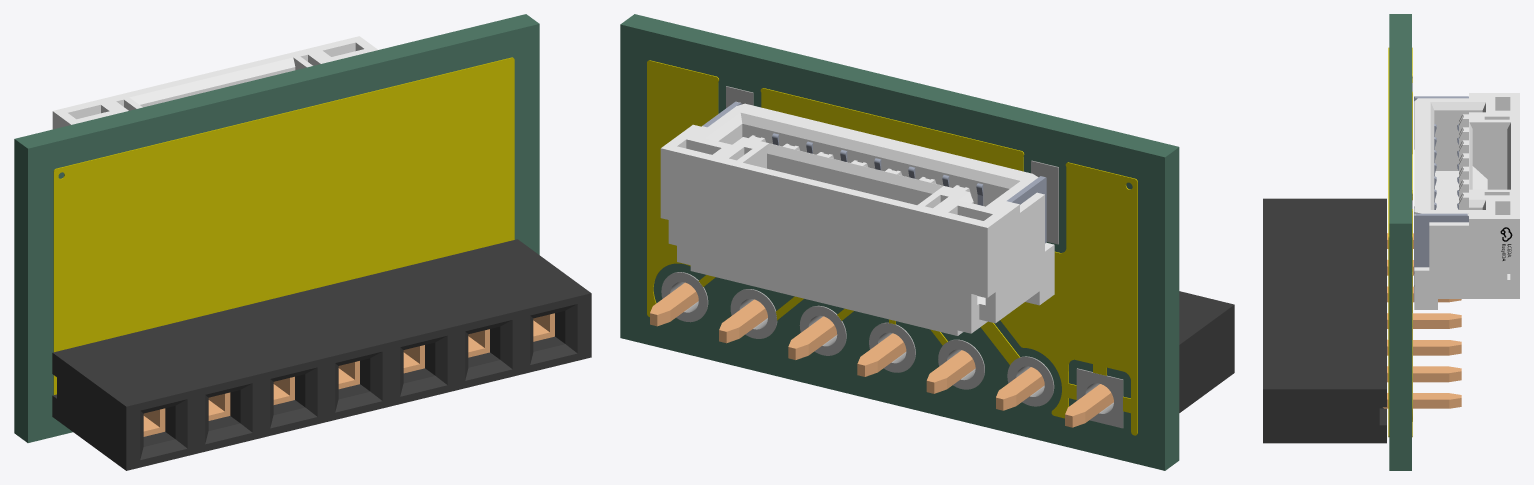
File: pet-screen-adapter.glb
3 renders of one model, left to right at view 1: azimuth 30°, elevation 25°; view 2: azimuth 150°, elevation 25°; view 3: azimuth 270°, elevation 25°, orthographic. The views are drawn at different scales.
Parts seen in each view (by area): view 1: o1.3, o1.1.1, o1.6, o1.2.1; view 2: o1.6, o1.2.1, o1.3, o1.1.1, o1.4; view 3: o1.1.1, o1.2.1, o1.6, o1.3, o1.4.
Part boxes in pixels (bbox=[...]): o1.3: bbox=[53, 57, 514, 394]; o1.1.1: bbox=[52, 239, 591, 470]; o1.6: bbox=[14, 14, 539, 442]; o1.2.1: bbox=[52, 36, 377, 129]; o1.6: bbox=[620, 14, 1179, 470]; o1.2.1: bbox=[660, 101, 1054, 335]; o1.3: bbox=[647, 60, 1137, 435]; o1.1.1: bbox=[650, 282, 1234, 427]; o1.4: bbox=[661, 86, 1123, 428]; o1.1.1: bbox=[1263, 198, 1461, 443]; o1.2.1: bbox=[1414, 93, 1519, 309]; o1.6: bbox=[1389, 14, 1411, 470]; o1.3: bbox=[1388, 47, 1412, 437]; o1.4: bbox=[1412, 83, 1412, 421].
Bounding box in the file's own units: 0.02 × 0.011 × 0.0103.
